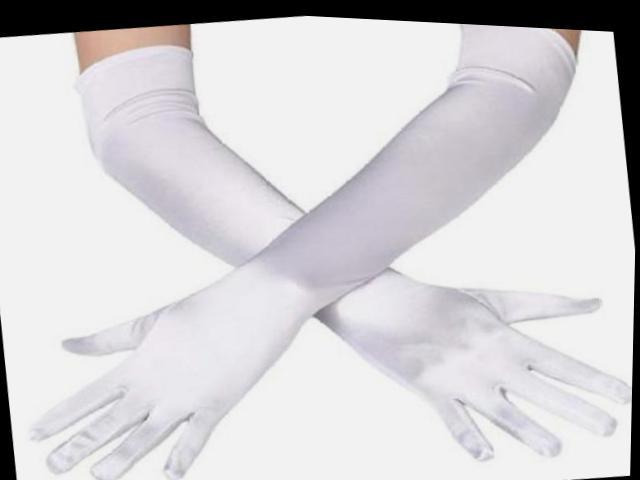Hand-in-Glove: (17, 1, 633, 480)
